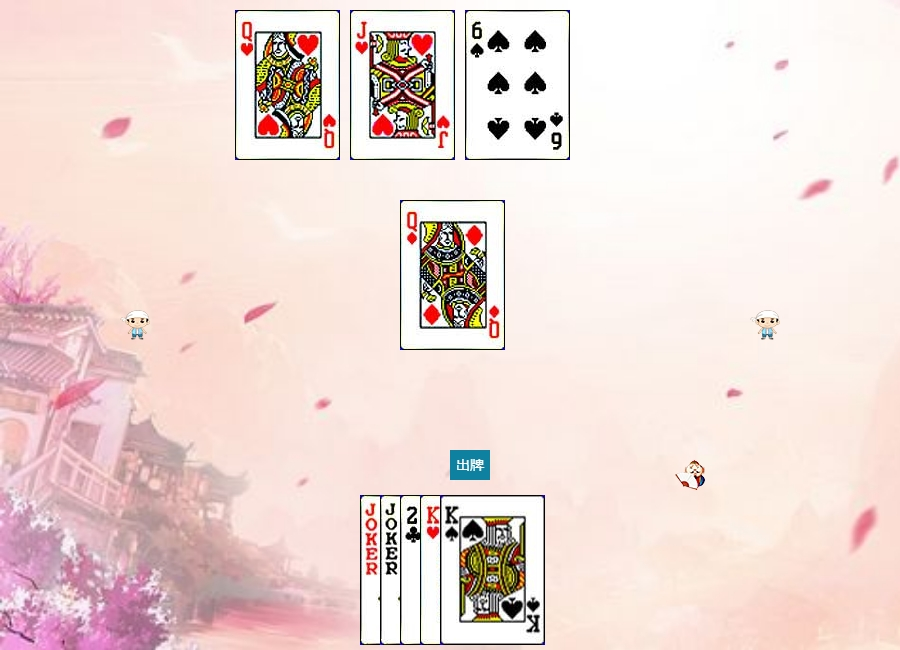11~3: (350, 10, 455, 160)
12~1: (400, 200, 505, 350)
12~3: (235, 10, 340, 160)
13~3: (420, 495, 525, 645)
13~4: (440, 495, 545, 645)
15~2: (400, 495, 505, 645)
17~3: (380, 495, 485, 645)
18~4: (360, 495, 465, 645)
6~4: (465, 10, 570, 160)
